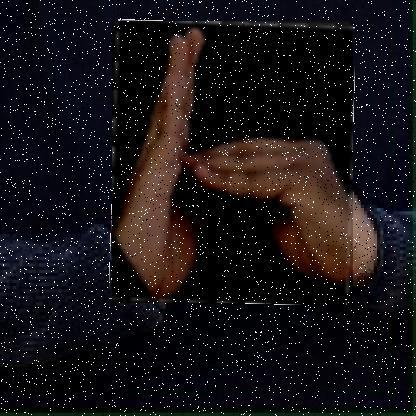Z: (112, 21, 354, 304)
